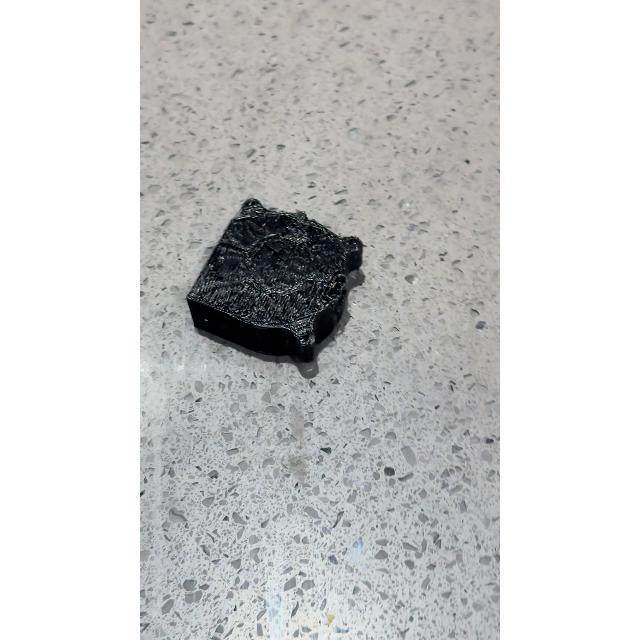Pieza3: (182, 184, 376, 392)
